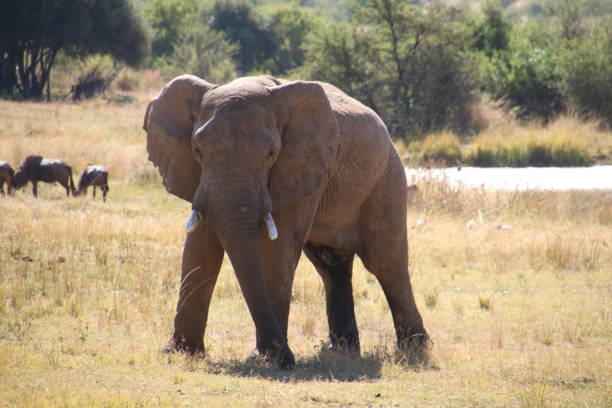africanelephant: (167, 77, 303, 293)
